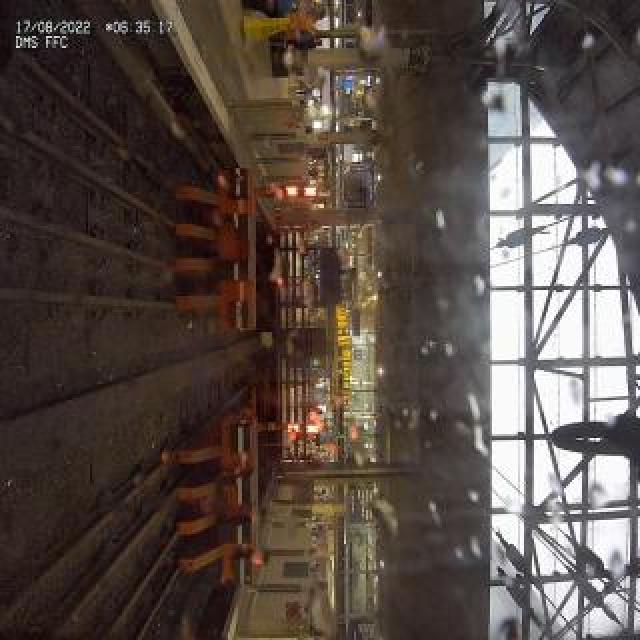rusted-track: (2, 269, 144, 321)
